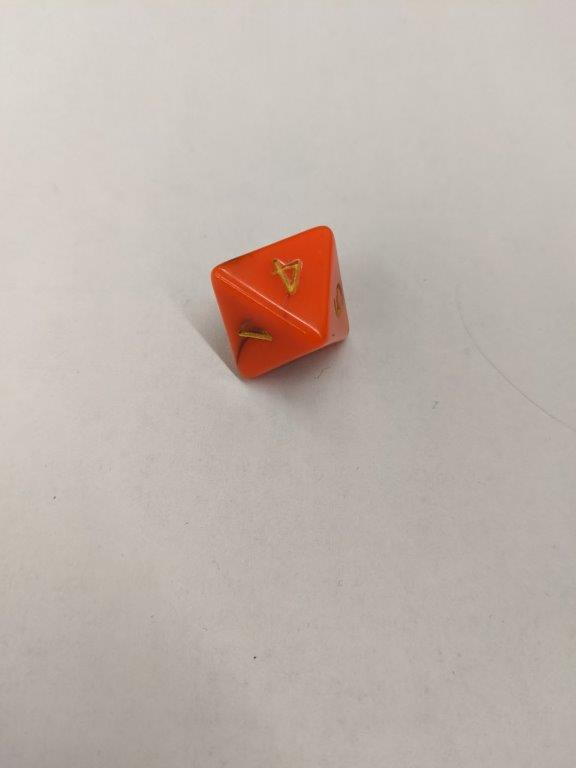d8-4: (210, 224, 351, 380)
